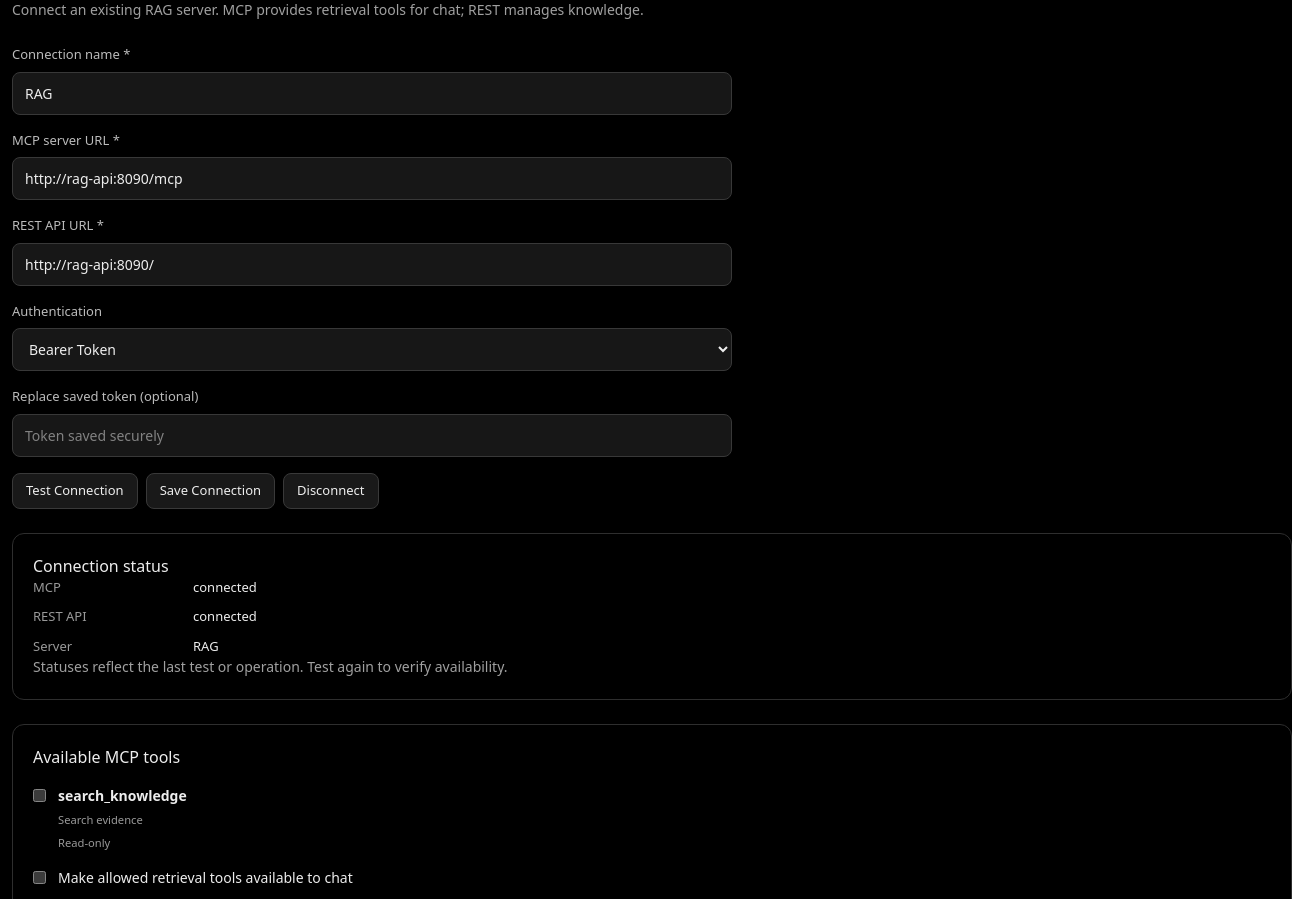
Test case: connection form tests independent statuses and clears write-only token input
In the password field labelled "Replace saved token (optional)": (372, 435) top-left (12, 414), bottom-right (732, 457), type "secret-never-shown"
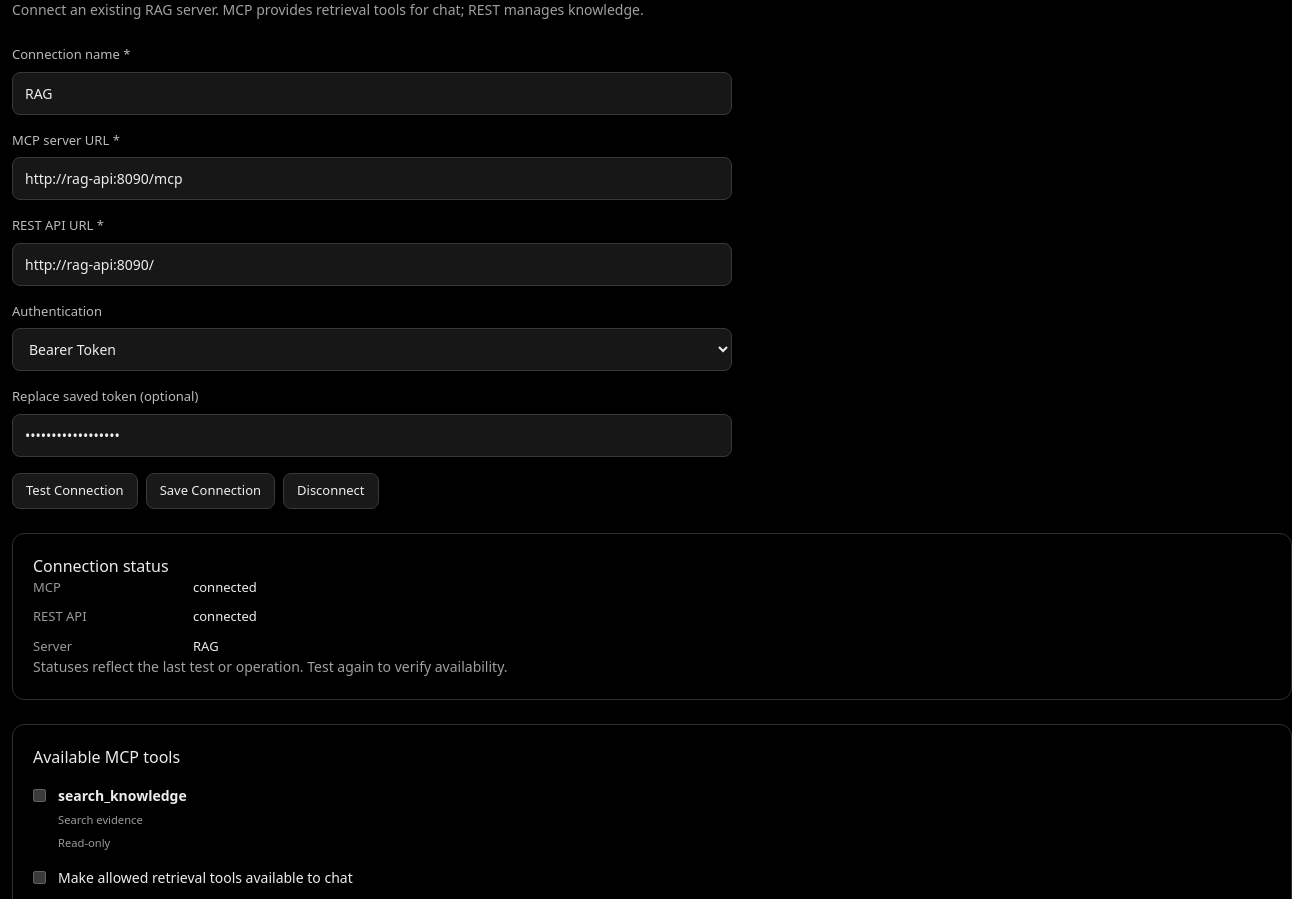
Click the button "Test Connection": (75, 491) top-left (12, 473), bottom-right (138, 509)
(page scrolled)
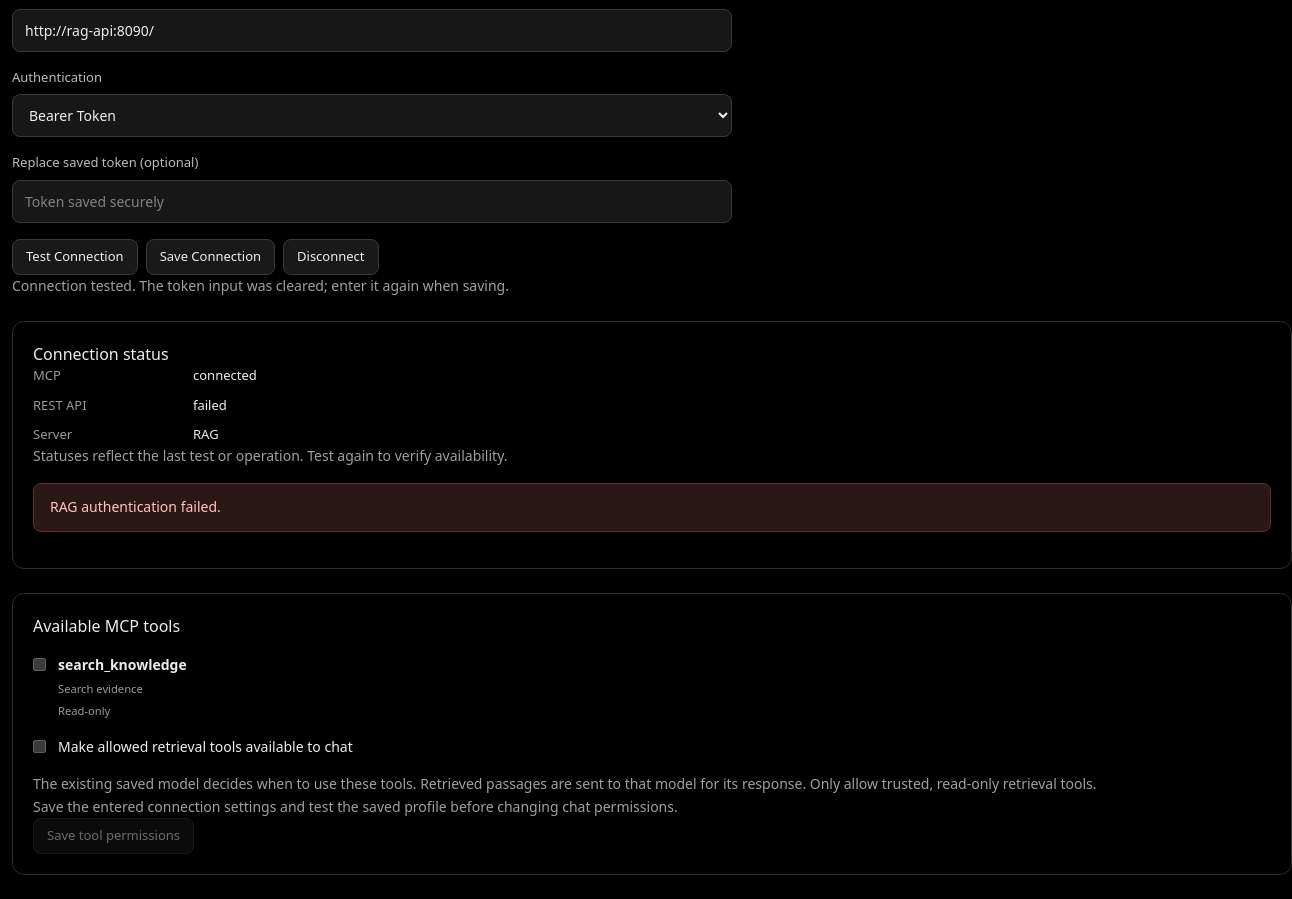
Expected: the text "search_knowledge" is shown, top-left (58, 654), bottom-right (187, 675)
Expected: the text "RAG authentication failed." is shown, top-left (33, 483), bottom-right (1271, 532)
Expected: the password field labelled "Replace saved token (optional)" is empty, top-left (12, 180), bottom-right (732, 223)
